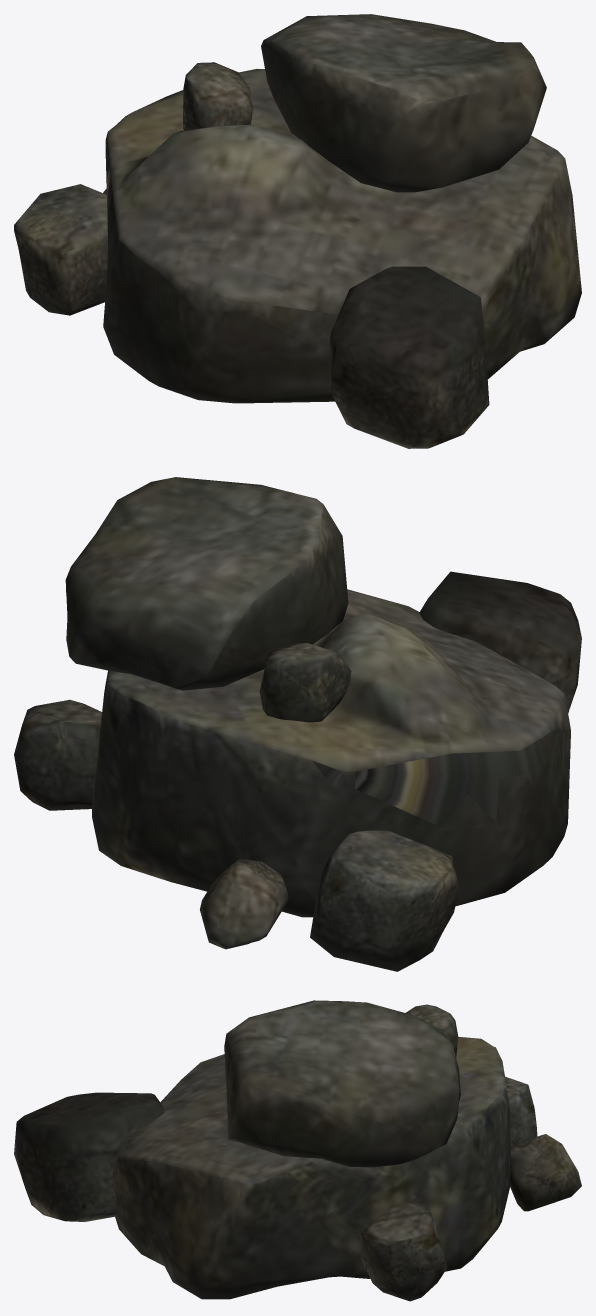
The picture shows the model from 3 angles, top to bottom: view 1: azimuth 30°, elevation 25°; view 2: azimuth 150°, elevation 25°; view 3: azimuth 270°, elevation 25°; orthographic projection. The views are drawn at different scales.
Parts seen in each view (by area): view 1: smallrockcluster_1; view 2: smallrockcluster_1; view 3: smallrockcluster_1.
Part boxes in pixels (x1,y1,x2,y2): smallrockcluster_1: (14,14,581,448); smallrockcluster_1: (14,477,581,971); smallrockcluster_1: (14,1000,581,1301).
Bounding box in the file's own units: 4.25 × 2.52 × 5.61.
Materials: 1 (1 with a texture image).
